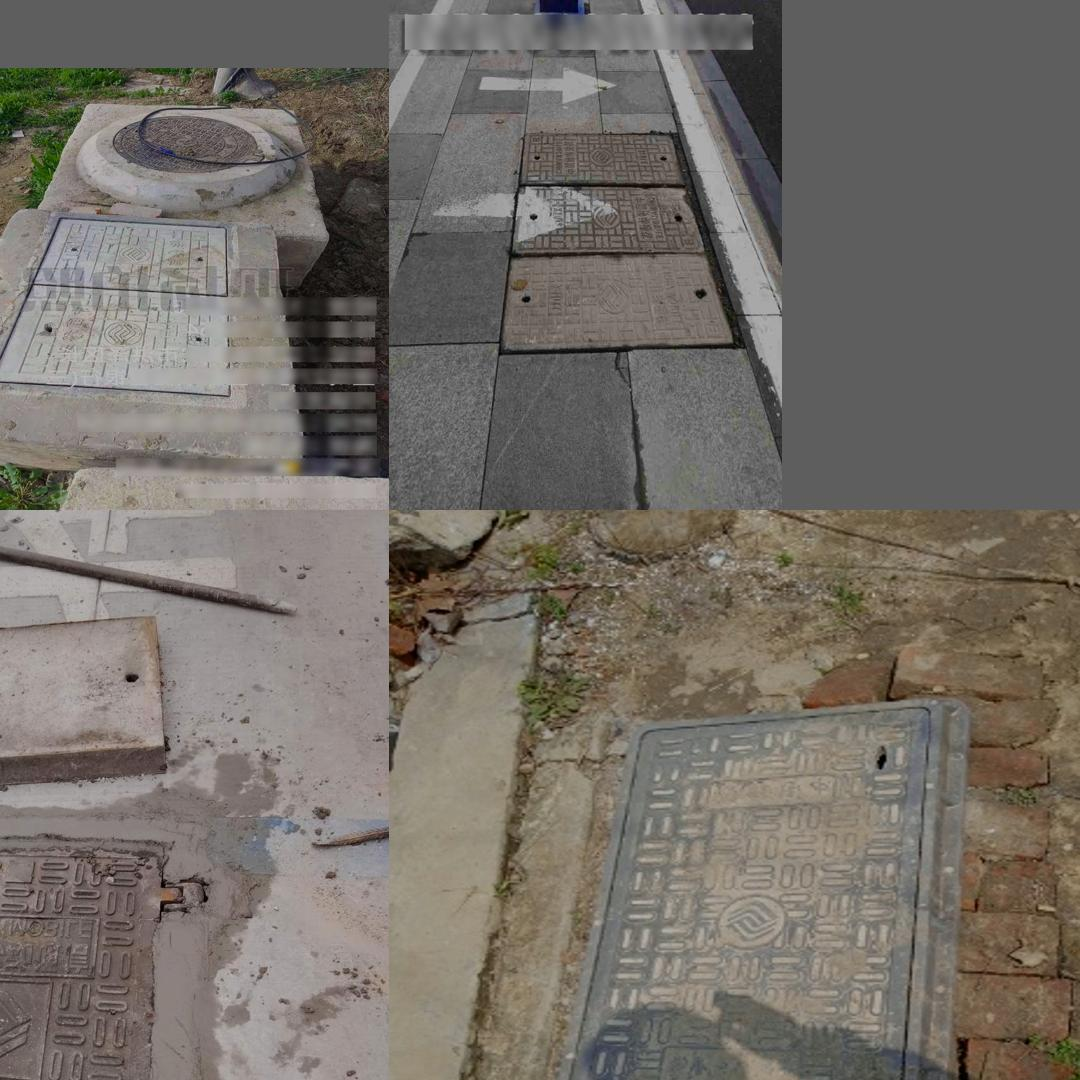good: (522, 701, 970, 1080), (496, 125, 741, 358), (0, 834, 202, 1080), (0, 211, 238, 402), (113, 116, 266, 173)
